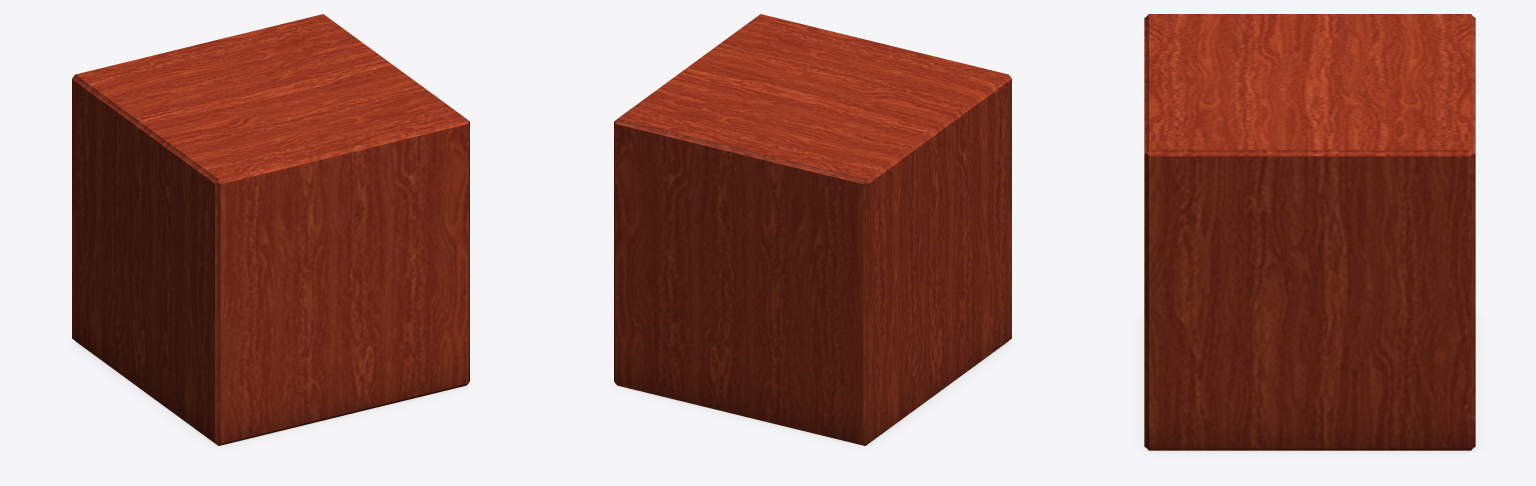
Rendered from wood-cube.glb.
3 renders of one model, left to right at view 1: azimuth 30°, elevation 25°; view 2: azimuth 150°, elevation 25°; view 3: azimuth 270°, elevation 25°, orthographic. The views are drawn at different scales.
Parts seen in each view (by area): view 1: Wood Cube, Shadow; view 2: Wood Cube, Shadow; view 3: Wood Cube, Shadow.
Part boxes in pixels (x1,y1,x2,y2): Wood Cube: (72,14,469,445); Shadow: (70,339,471,448); Wood Cube: (614,14,1011,445); Shadow: (612,339,1013,448); Wood Cube: (1144,14,1475,450); Shadow: (1135,314,1484,455).
Size of the model in its own units: 1.28 by 1 by 1.28.
2 materials, 2 textured.
